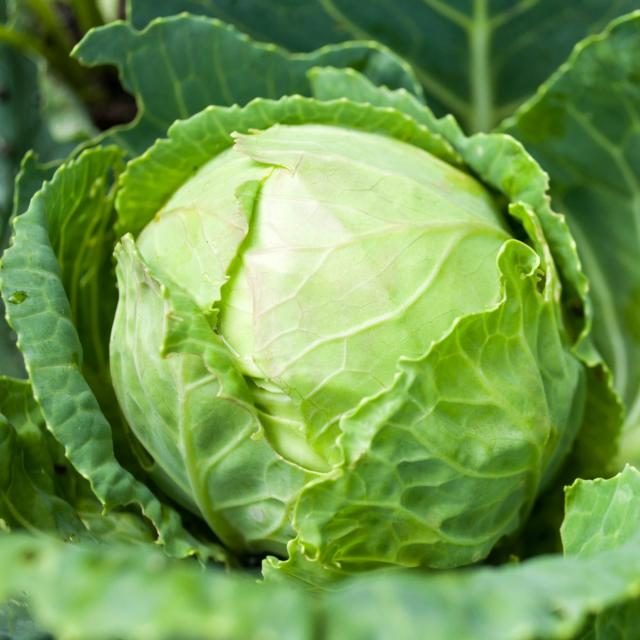cabbage: (30, 41, 640, 566)
